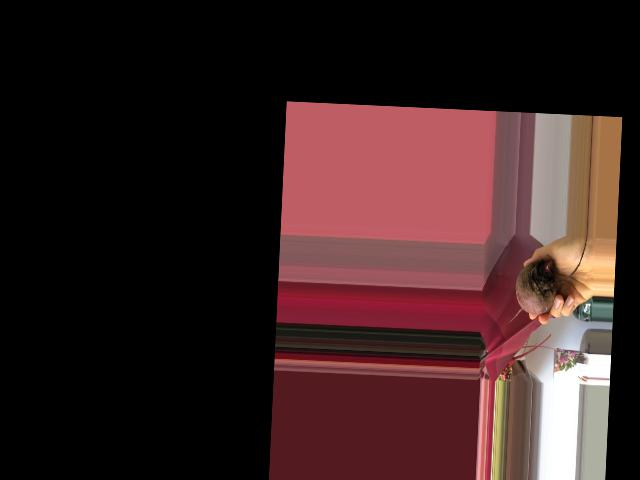beet: (506, 234, 587, 328)
